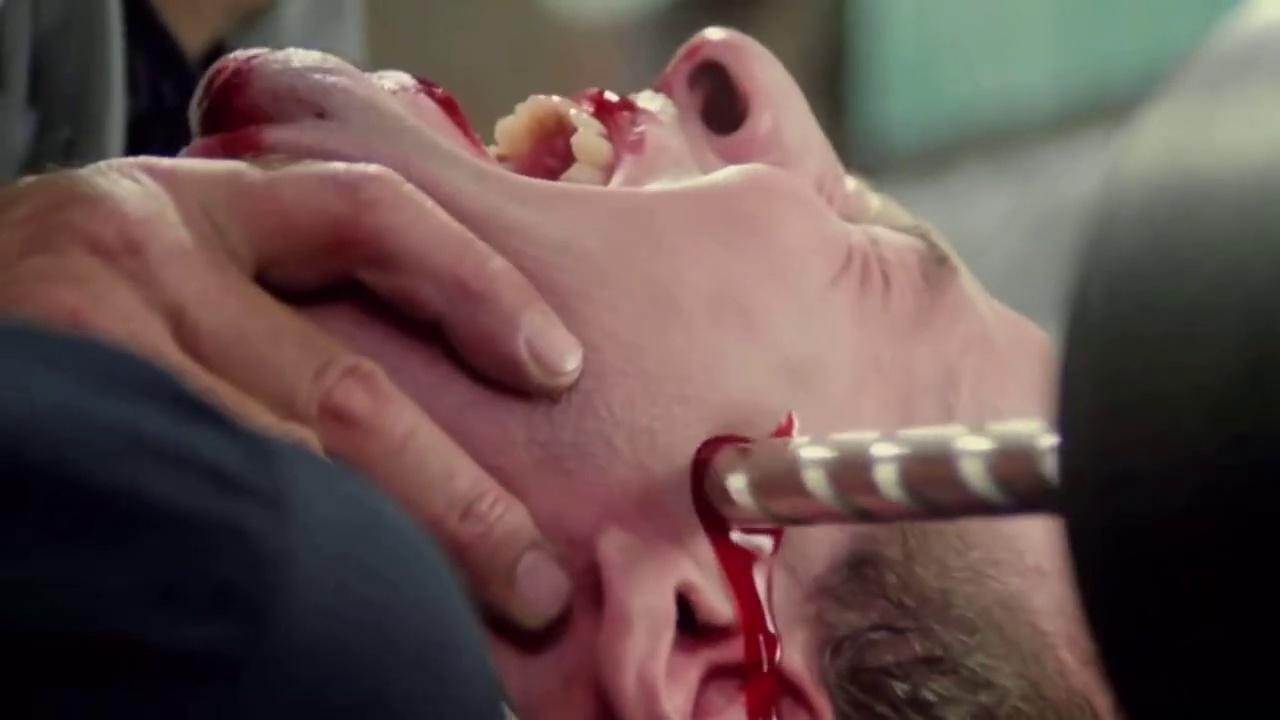Fire: (368, 69, 706, 185), (692, 434, 784, 720), (189, 48, 351, 156)
